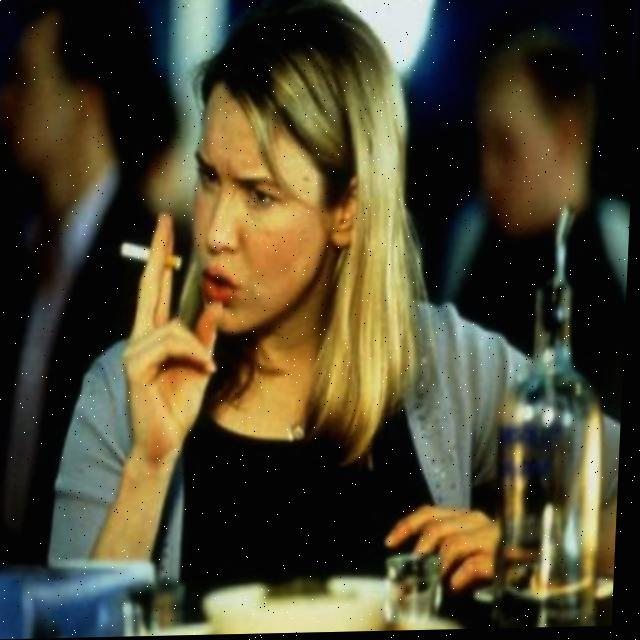cigarette: (118, 236, 184, 275)
